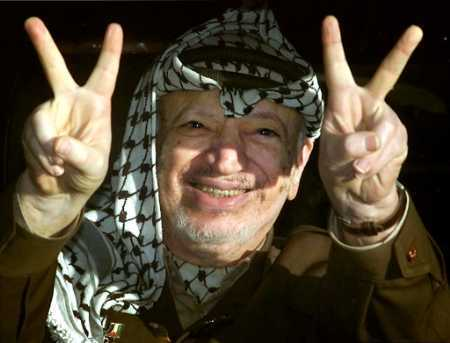face: (155, 90, 312, 258)
hand: (320, 15, 424, 221), (19, 16, 125, 196)
